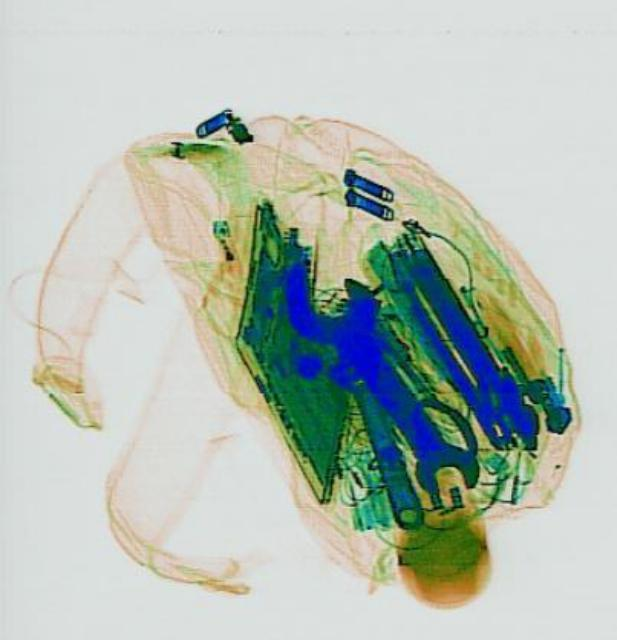Wrench: (296, 270, 487, 508)
